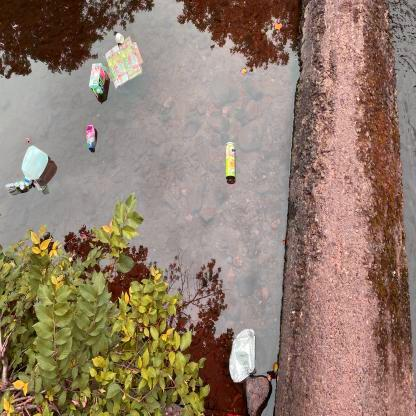Metal: (223, 321, 263, 386), (223, 139, 238, 185)
Plastic: (22, 141, 52, 188), (2, 177, 35, 197), (84, 119, 100, 154)
